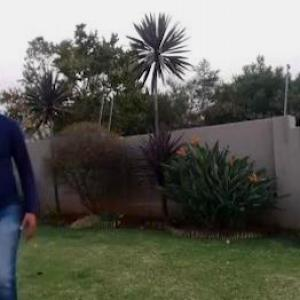follow: (1, 73, 33, 299)
